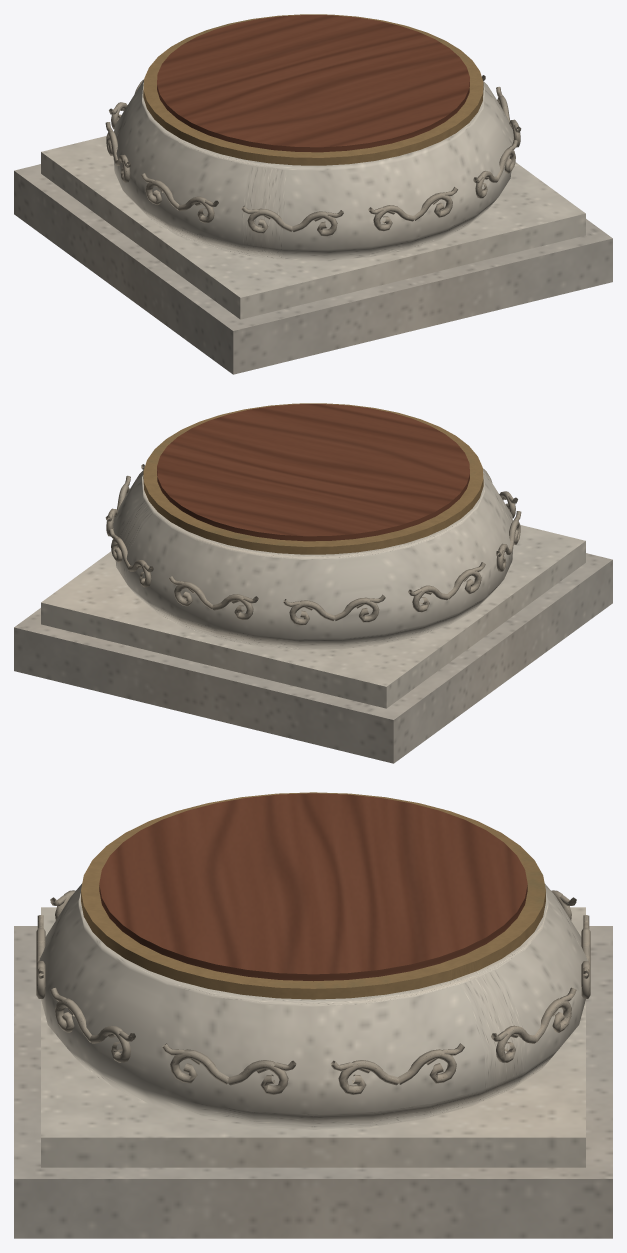
3 renders of one model, top to bottom at view 1: azimuth 30°, elevation 25°; view 2: azimuth 150°, elevation 25°; view 3: azimuth 270°, elevation 25°, orthographic. The views are drawn at different scales.
Visible parts, largest first — view 1: SquarePlinthAndStoneDrum_stonePale, ShallowCarvedBand_heartwood, SquarePlinthAndStoneDrum_stone, ShallowCarvedBand_bronze, ShallowCarvedBand_carving; view 2: SquarePlinthAndStoneDrum_stonePale, ShallowCarvedBand_heartwood, SquarePlinthAndStoneDrum_stone, ShallowCarvedBand_bronze, ShallowCarvedBand_carving; view 3: SquarePlinthAndStoneDrum_stonePale, ShallowCarvedBand_heartwood, SquarePlinthAndStoneDrum_stone, ShallowCarvedBand_bronze, ShallowCarvedBand_carving.
Boxes of the visible parts, x1=… form: SquarePlinthAndStoneDrum_stonePale: x1=41, y1=80, x2=585, y2=319; ShallowCarvedBand_heartwood: x1=157, y1=15, x2=469, y2=152; SquarePlinthAndStoneDrum_stone: x1=14, y1=164, x2=612, y2=374; ShallowCarvedBand_bronze: x1=143, y1=14, x2=483, y2=165; ShallowCarvedBand_carving: x1=105, y1=75, x2=521, y2=236; SquarePlinthAndStoneDrum_stonePale: x1=41, y1=469, x2=585, y2=708; ShallowCarvedBand_heartwood: x1=157, y1=404, x2=469, y2=541; SquarePlinthAndStoneDrum_stone: x1=14, y1=553, x2=612, y2=763; ShallowCarvedBand_bronze: x1=143, y1=403, x2=483, y2=554; ShallowCarvedBand_carving: x1=105, y1=464, x2=521, y2=625; SquarePlinthAndStoneDrum_stonePale: x1=39, y1=883, x2=587, y2=1167; ShallowCarvedBand_heartwood: x1=99, y1=793, x2=527, y2=981; SquarePlinthAndStoneDrum_stone: x1=14, y1=926, x2=612, y2=1238; ShallowCarvedBand_bronze: x1=81, y1=792, x2=545, y2=999; ShallowCarvedBand_carving: x1=36, y1=890, x2=590, y2=1094.
Size of the model in its own units: 1.27 by 0.536 by 1.27.
Materials: 5 (5 with a texture image).
